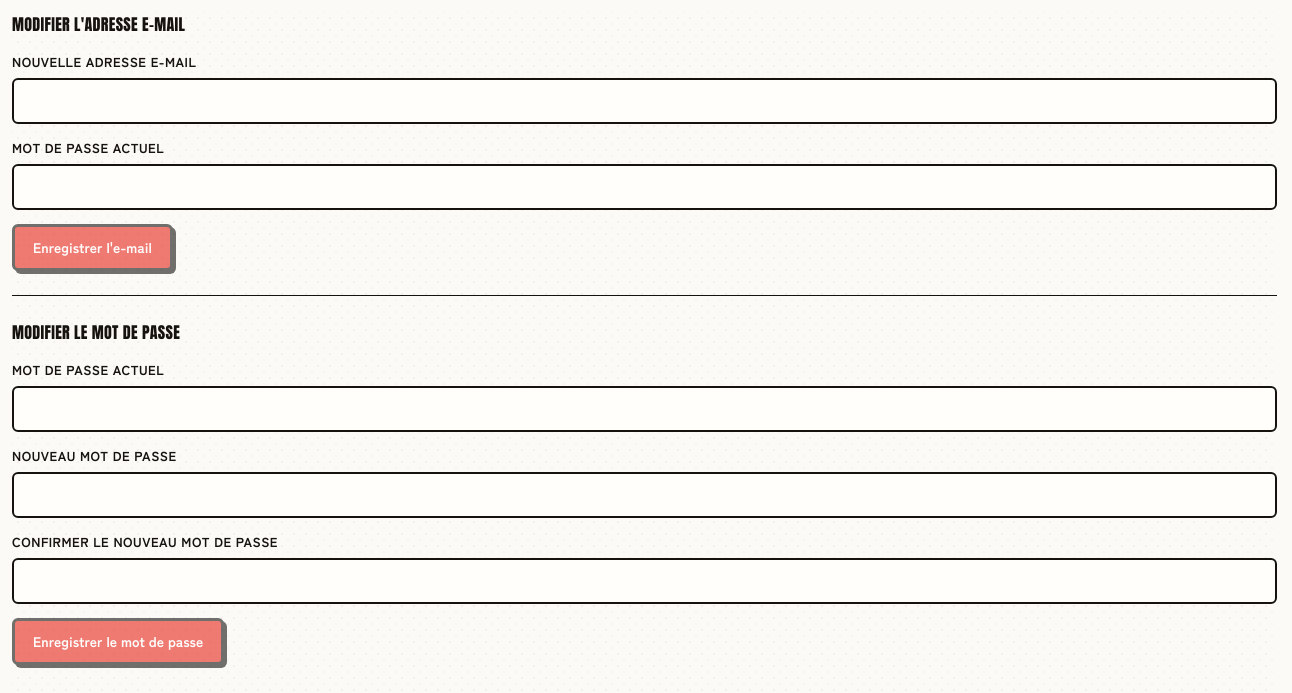
it: SecurityIdentifiants › email form: shows success pending state after changeEmail
Expected: the heading "Modifier l'adresse e-mail" is shown, [12,12,185,36]
Scope to the email form to avoid label clashes with the password form
In the field labelled "Nouvelle adresse e-mail": (644, 101) [12,78,1277,124], type "next@example.com"
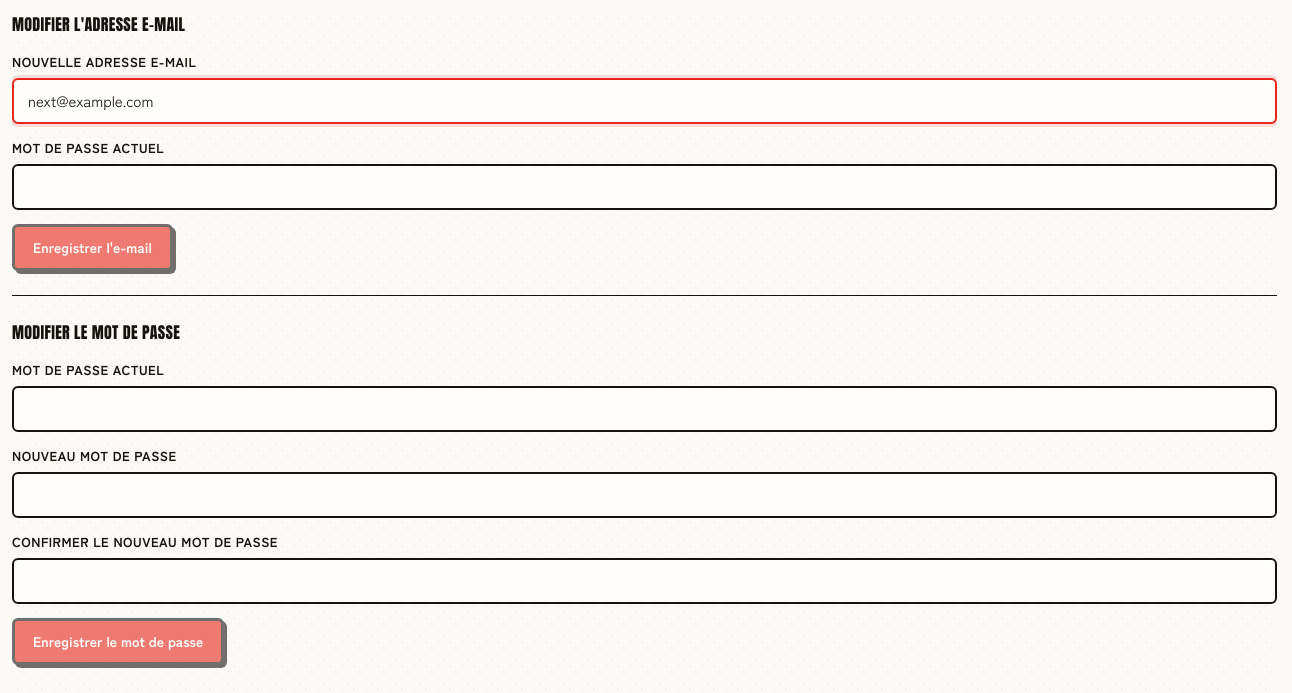
In the password field labelled "Mot de passe actuel" below "Nouvelle adresse e-mail": (644, 187) [12,164,1277,210], type "secret123"
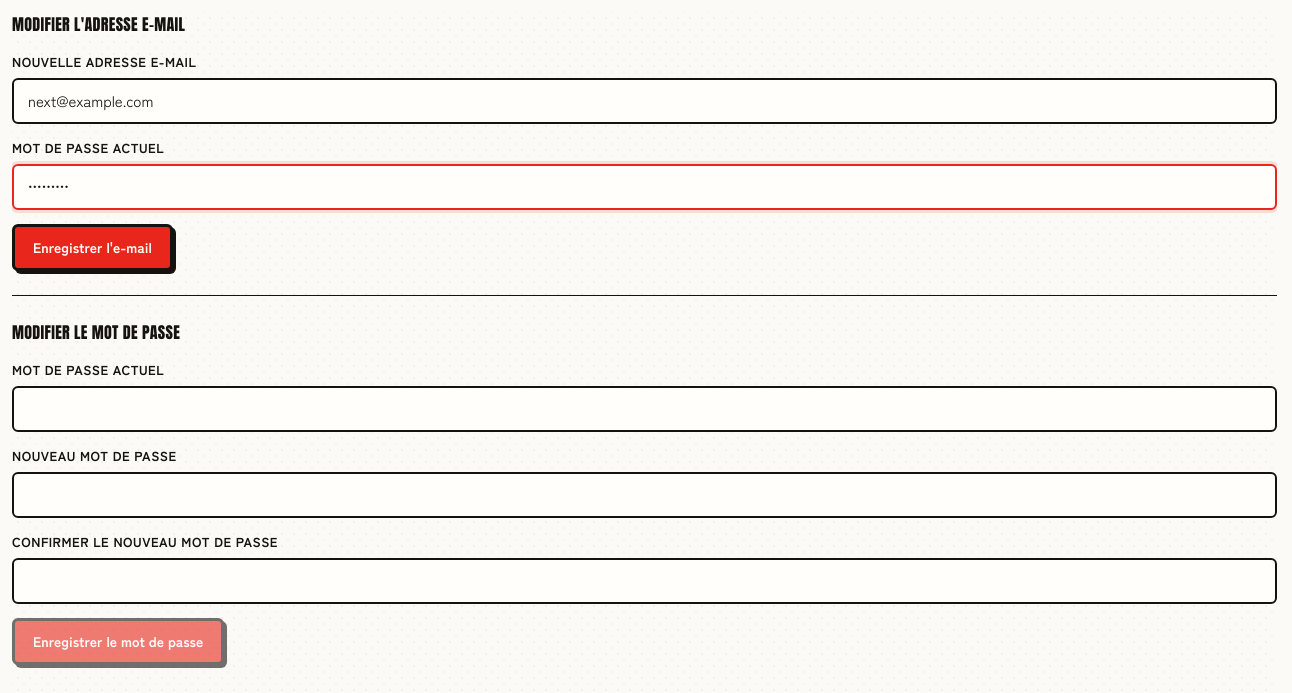
Click the button "Enregistrer l'e-mail": click(92, 248) [12,224,173,271]
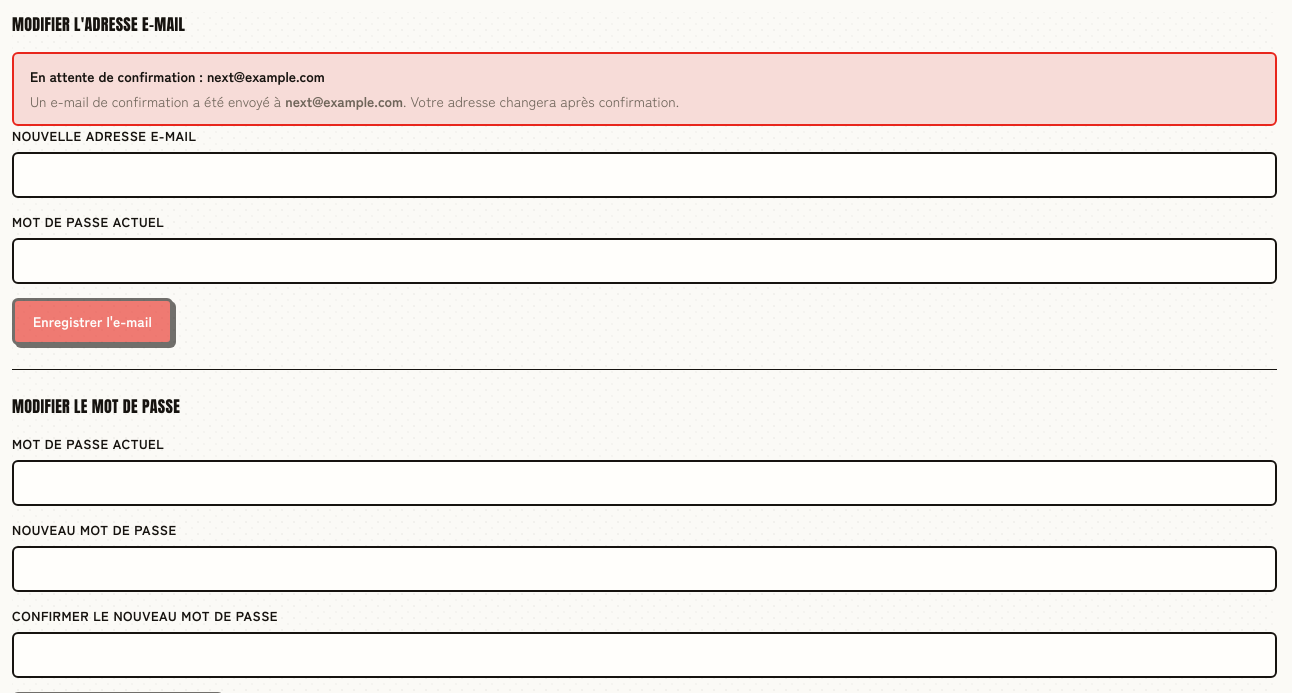
Now the text "En attente de confirmation :" is shown, box [30,66,203,86]
Now the 1st text "next@example.com" is shown, box [207,66,325,86]
